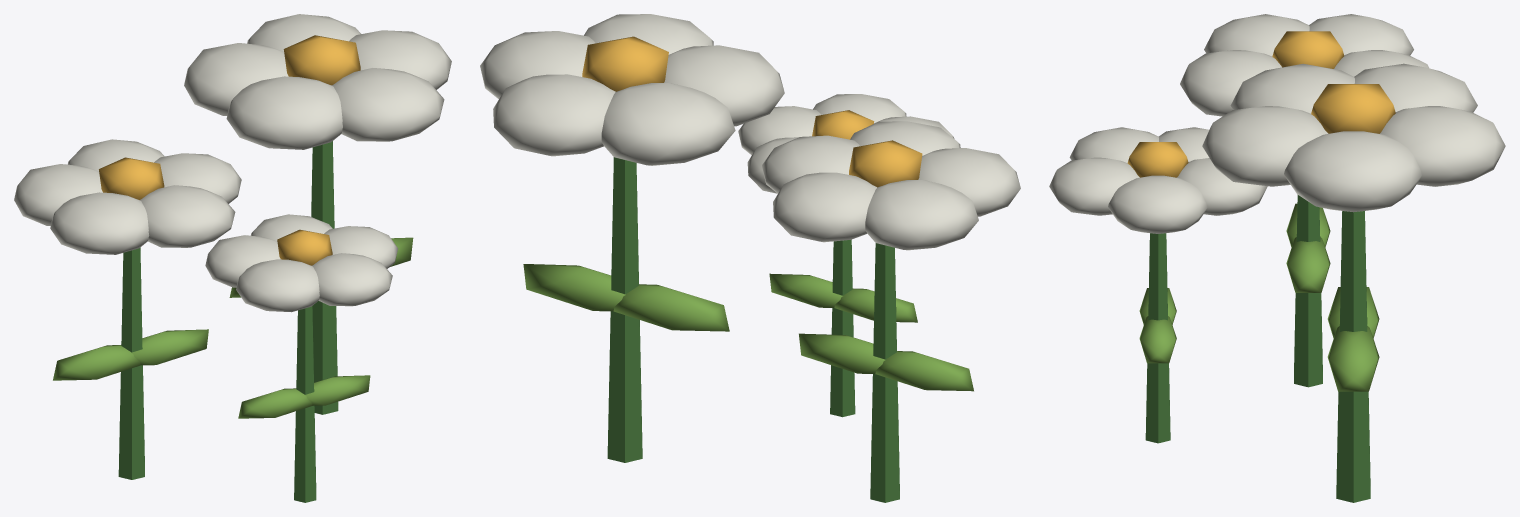
File: flower_white_cluster_01.glb
The picture shows the model from 3 angles, left to right: view 1: azimuth 30°, elevation 25°; view 2: azimuth 150°, elevation 25°; view 3: azimuth 270°, elevation 25°; orthographic projection. The views are drawn at different scales.
Visible parts, largest first — view 1: flower_white_cluster_01; view 2: flower_white_cluster_01; view 3: flower_white_cluster_01.
Boxes of the visible parts, left/top/right/bottom form: flower_white_cluster_01: left=14, top=14, right=451, bottom=502; flower_white_cluster_01: left=480, top=14, right=1020, bottom=502; flower_white_cluster_01: left=1049, top=14, right=1505, bottom=502.
Size of the model in its own units: 0.3618 by 0.3009 by 0.3038.
